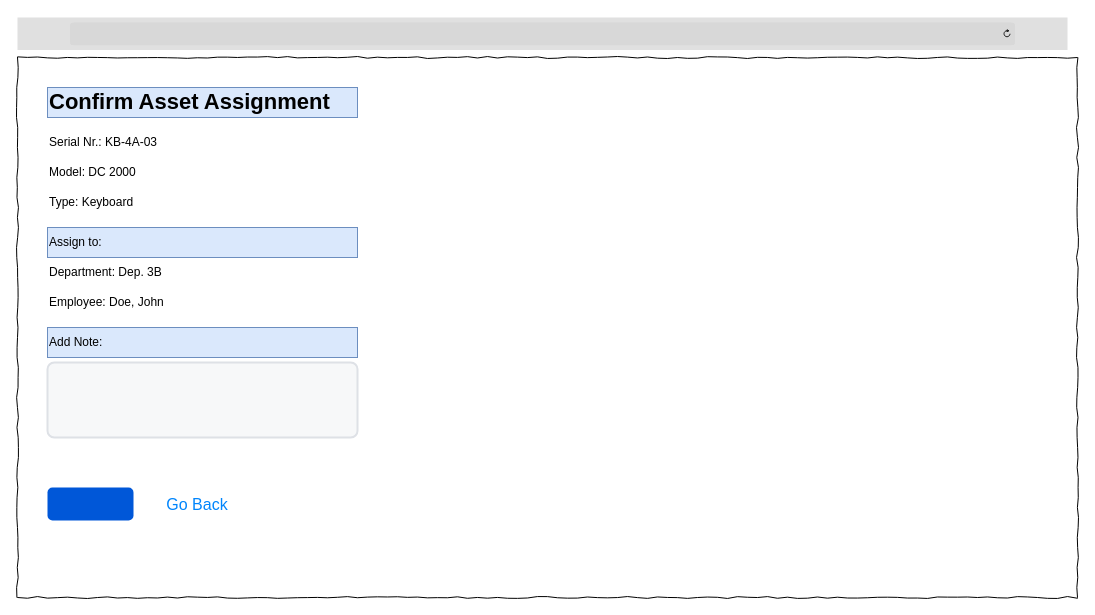
This 1095x615 diagram has some shape labels left out. Each missing label, with the centre of its shape:
"companyitassets/requests/assign" belongs at point (542, 33).
"Confirm" belongs at point (90, 503).
